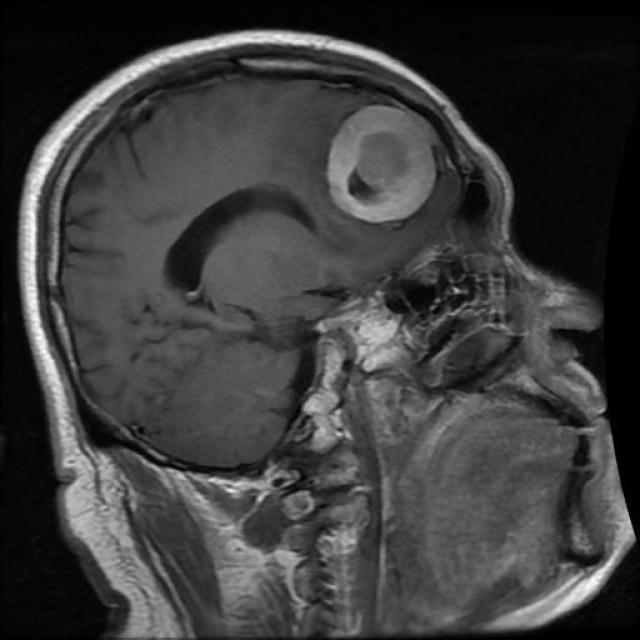meningioma: (326, 109, 436, 224)
